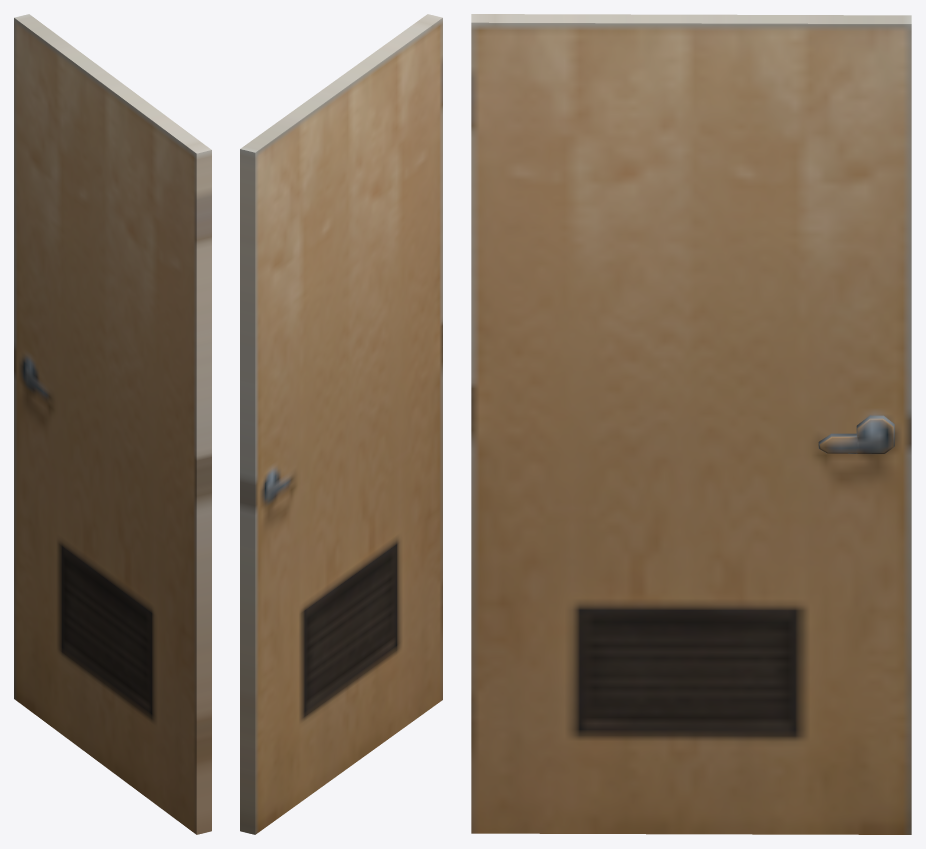
File: ApartmentDoor.glb
The picture shows the model from 3 angles, left to right: view 1: azimuth 30°, elevation 25°; view 2: azimuth 150°, elevation 25°; view 3: azimuth 270°, elevation 25°; orthographic projection. The views are drawn at different scales.
Visible parts, largest first — view 1: door_professional_01.003-col; view 2: door_professional_01.003-col; view 3: door_professional_01.003-col.
Boxes of the visible parts, x1=… form: door_professional_01.003-col: x1=14, y1=14, x2=211, y2=834; door_professional_01.003-col: x1=240, y1=14, x2=442, y2=834; door_professional_01.003-col: x1=471, y1=14, x2=911, y2=834.
Bounding box in the file's own units: 0.0748 × 2.22 × 1.09.
1 material, 1 textured.
